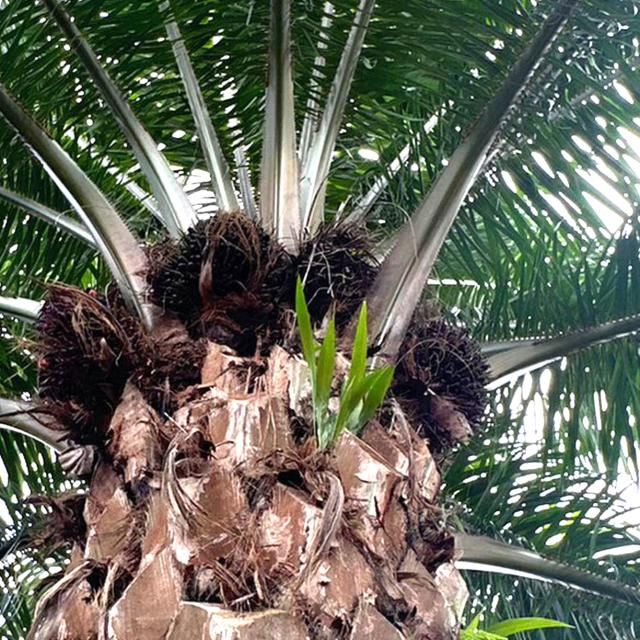unripe: (134, 205, 297, 332), (27, 280, 147, 421), (407, 313, 502, 434)
